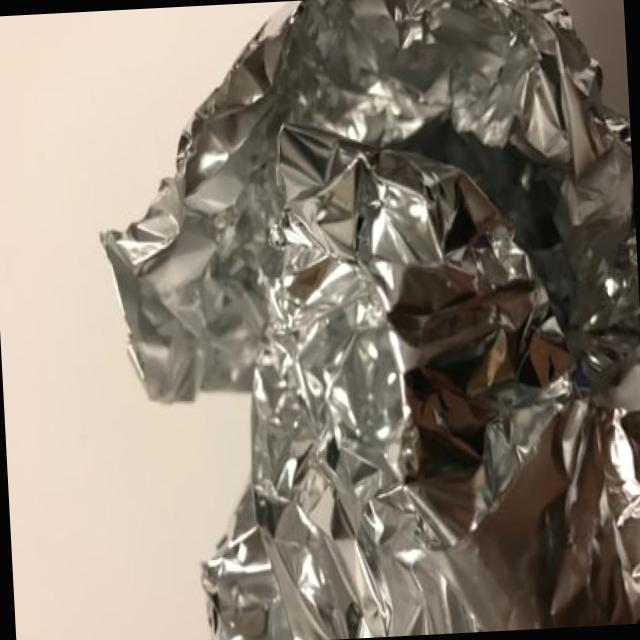kim_loai: (102, 0, 640, 640)
